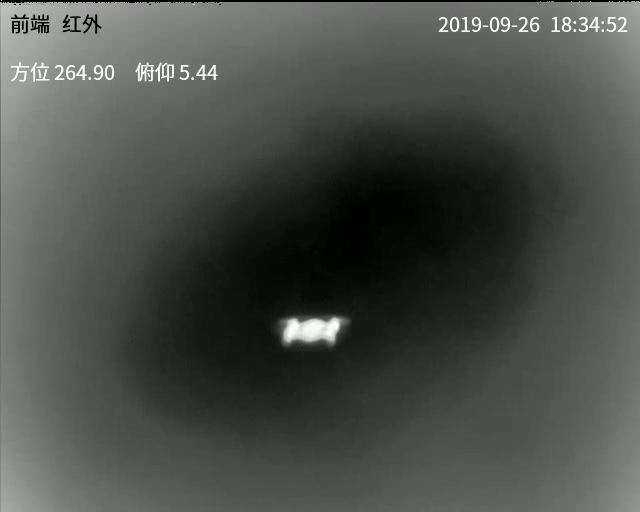DRONE: (282, 314, 344, 347)
